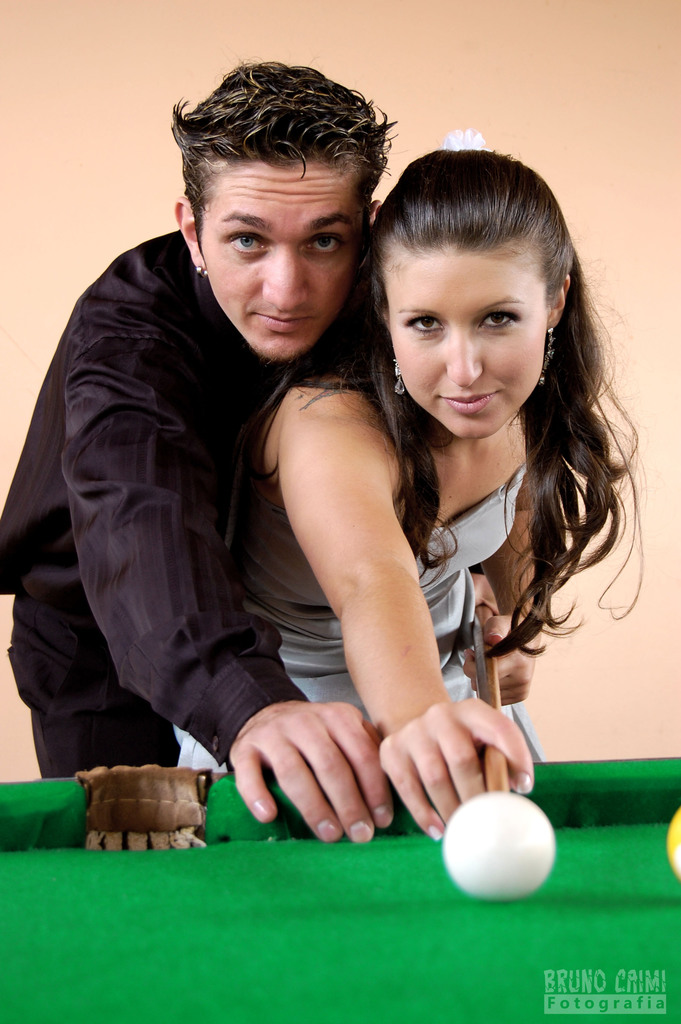Ball: (442, 788, 559, 900)
